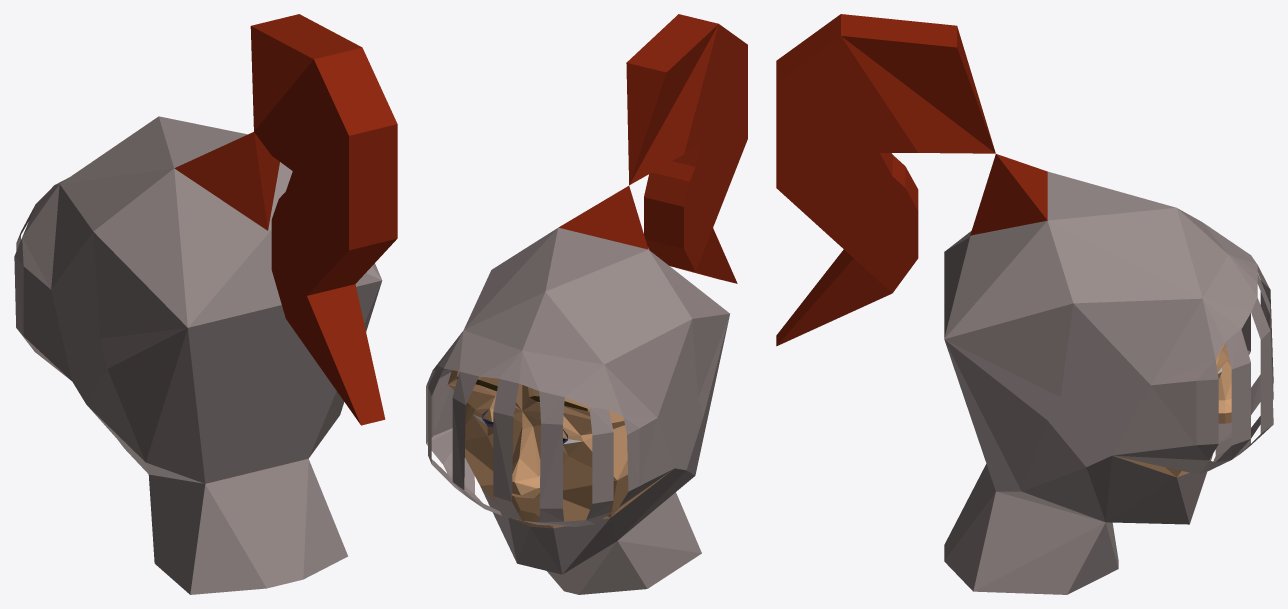
The model's file is itm_model_headA_zamorak_full_helm.obj.
3 views of the same model, side by side, from view 1: azimuth 30°, elevation 25°; view 2: azimuth 150°, elevation 25°; view 3: azimuth 270°, elevation 25° (orthographic). The views are drawn at different scales.
Size of the model in its own units: 0.6406 by 1.44 by 1.2.
